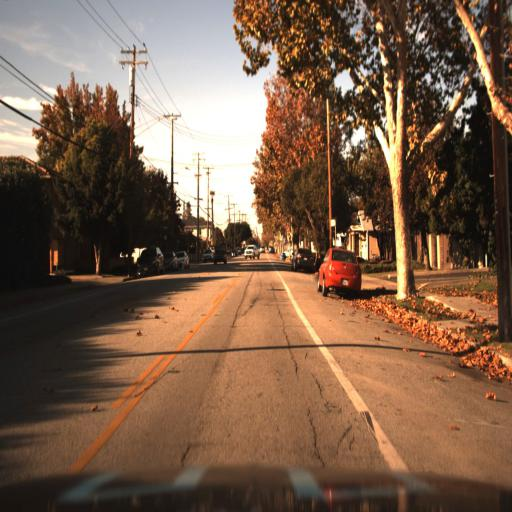car: (316, 247, 363, 306), (316, 244, 364, 300), (134, 241, 164, 282), (290, 243, 316, 276), (137, 243, 162, 276), (239, 236, 260, 265), (206, 243, 230, 265), (163, 246, 177, 275), (177, 247, 190, 273), (201, 247, 213, 263), (267, 243, 277, 258), (257, 241, 266, 255)
